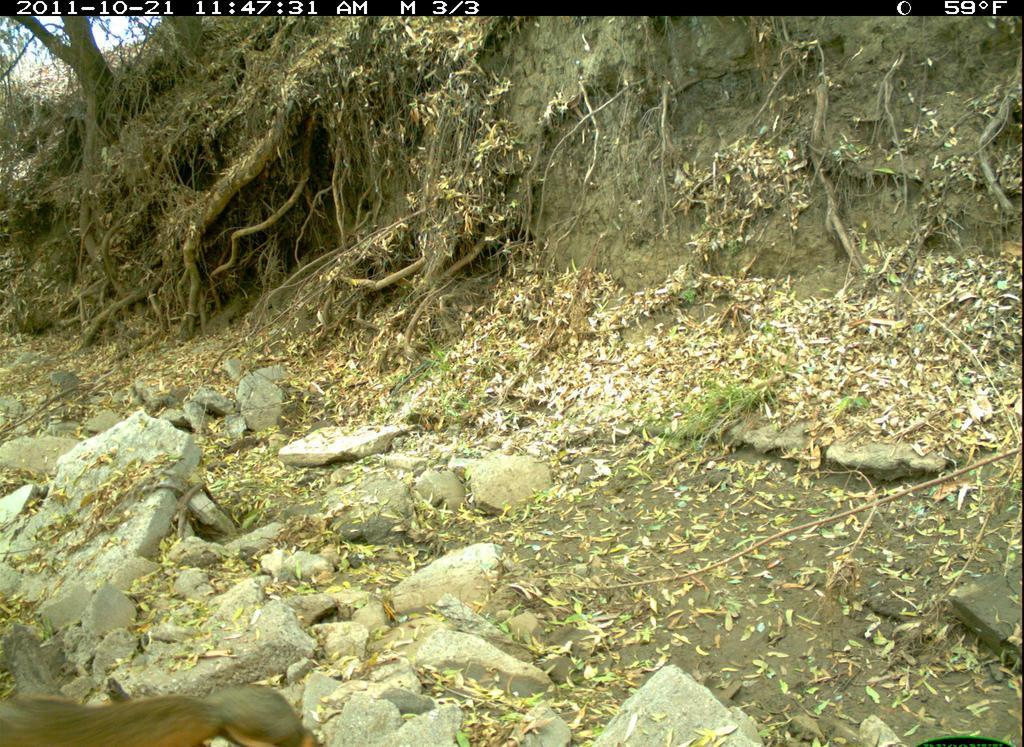squirrel: (1, 676, 331, 747)
